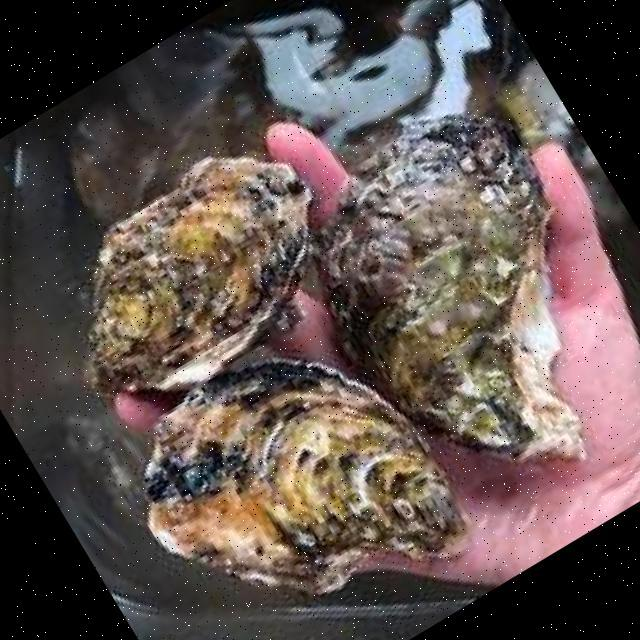Oyster-Closed: (321, 115, 584, 462), (144, 357, 469, 598), (87, 157, 313, 404)
